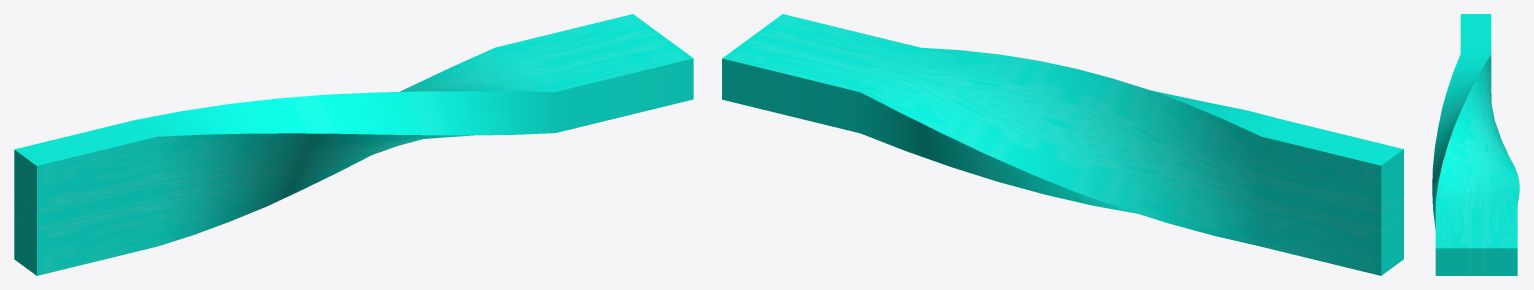
3 renders of one model, left to right at view 1: azimuth 30°, elevation 25°; view 2: azimuth 150°, elevation 25°; view 3: azimuth 270°, elevation 25°, orthographic. The views are drawn at different scales.
Visible parts, largest first — view 1: 0_object3base; view 2: 0_object3base; view 3: 0_object3base.
Boxes of the visible parts, x1,y1,x2,y2 form: 0_object3base: (14,14,693,275); 0_object3base: (722,14,1403,275); 0_object3base: (1432,14,1519,275).
Bounding box in the file's own units: 187 × 32.79 × 32.79.
Materials: 1 (1 with a texture image).
